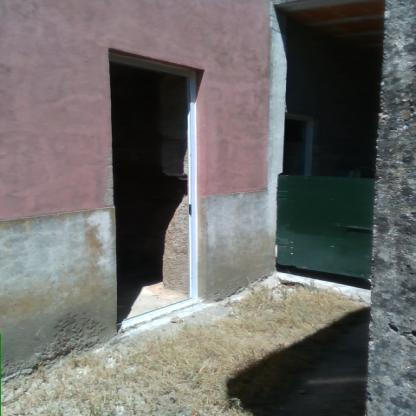open: (257, 0, 403, 311)
semi: (94, 43, 210, 325)
